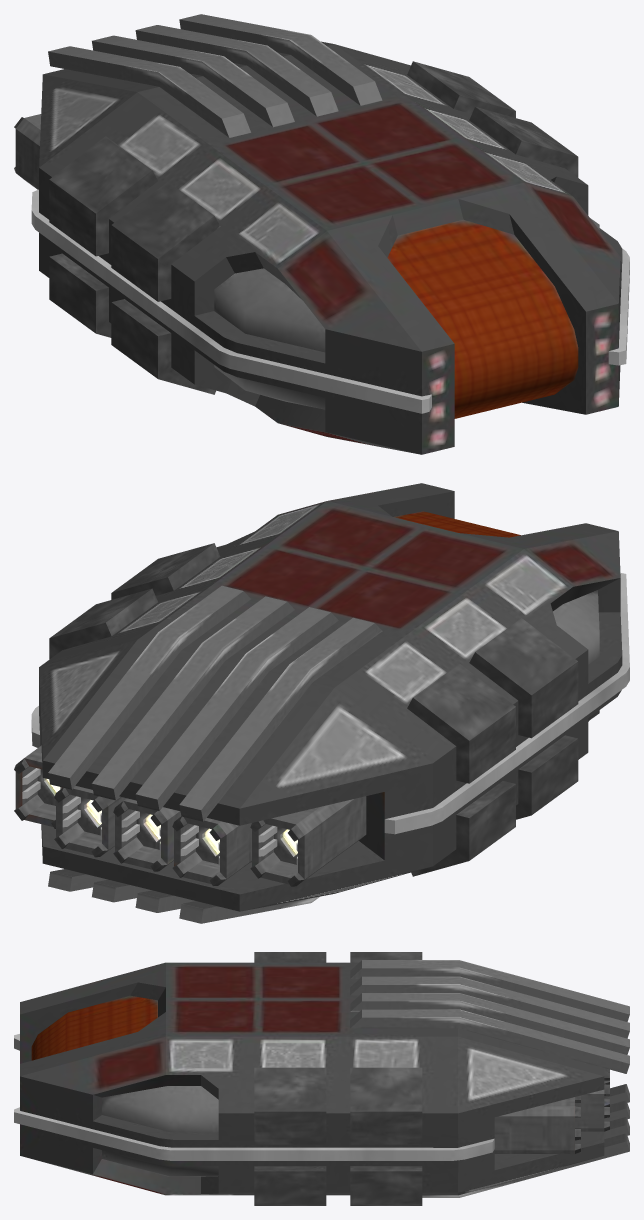
File: fighter-1-2.glb
3 renders of one model, top to bottom at view 1: azimuth 30°, elevation 25°; view 2: azimuth 150°, elevation 25°; view 3: azimuth 270°, elevation 25°, orthographic. The views are drawn at different scales.
Parts seen in each view (by area): view 1: fighter-1-2_0; view 2: fighter-1-2_0; view 3: fighter-1-2_0.
Part boxes in pixels (x1,y1,x2,y2): fighter-1-2_0: [14, 14, 629, 454]; fighter-1-2_0: [14, 483, 629, 923]; fighter-1-2_0: [14, 952, 629, 1205].
Size of the model in its own units: 0.6072 by 0.3226 by 1.
Materials: 1 (1 with a texture image).
